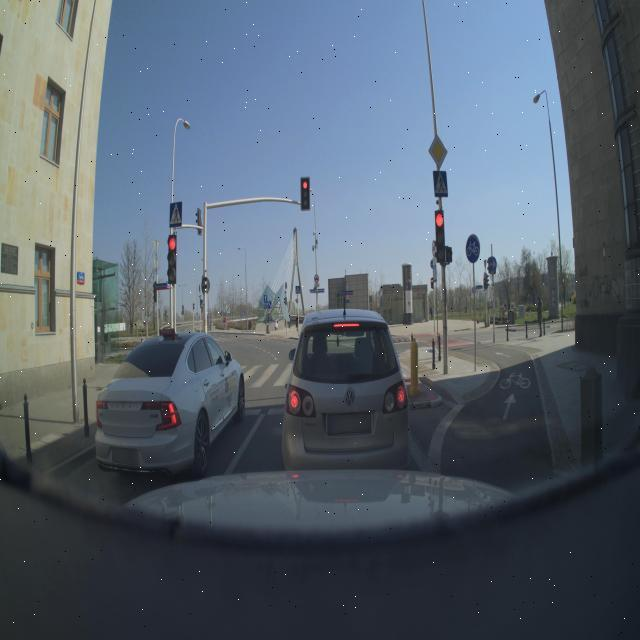Red: (276, 164, 328, 228), (425, 212, 468, 277), (159, 223, 195, 296)
